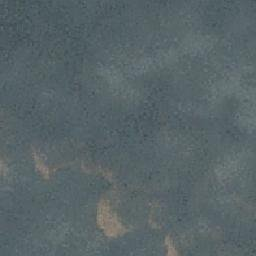debris: (95, 194, 130, 237), (78, 157, 116, 186), (28, 141, 55, 179), (162, 232, 179, 256)
